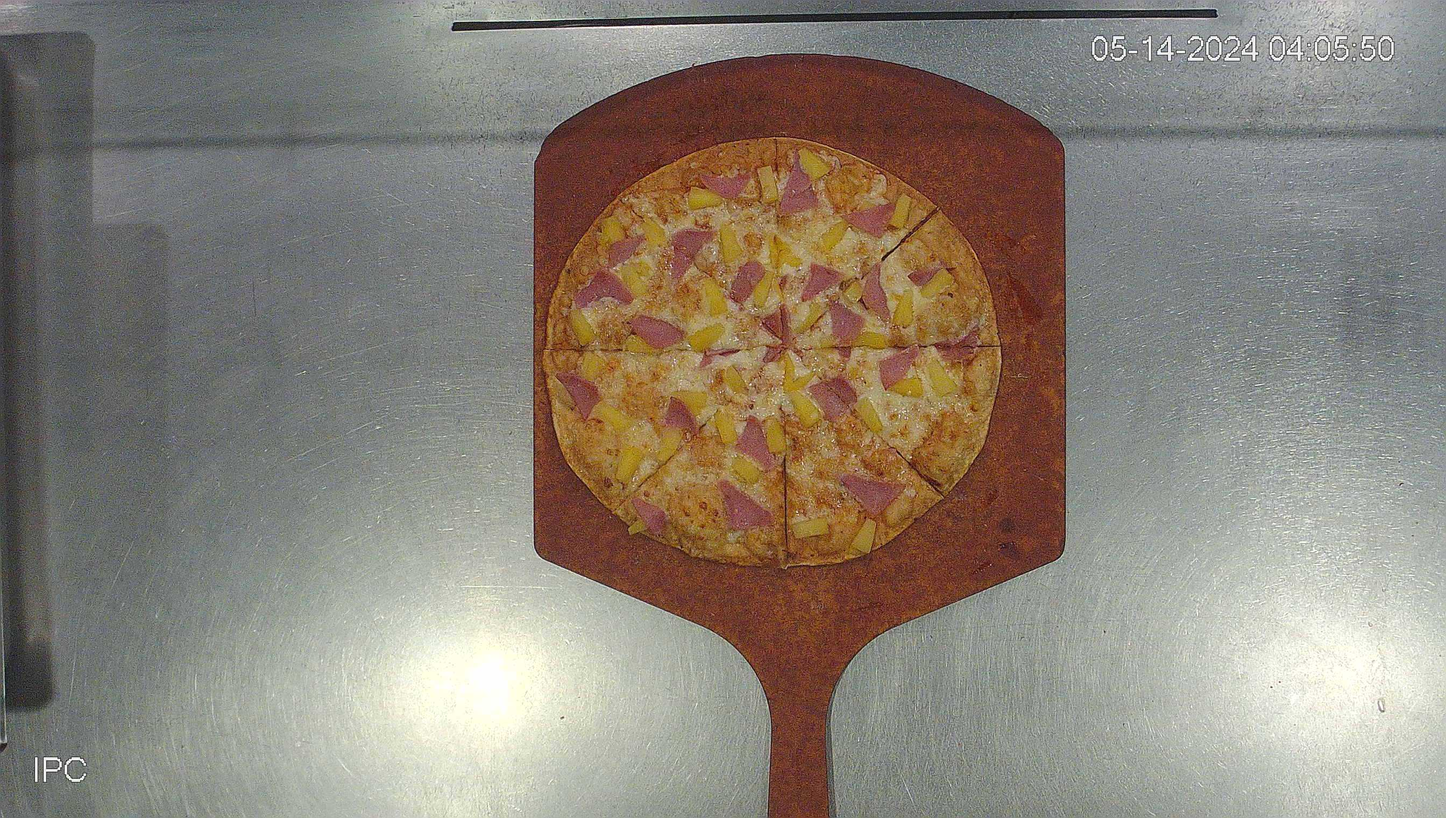manager_choice: (541, 135, 1002, 568)
